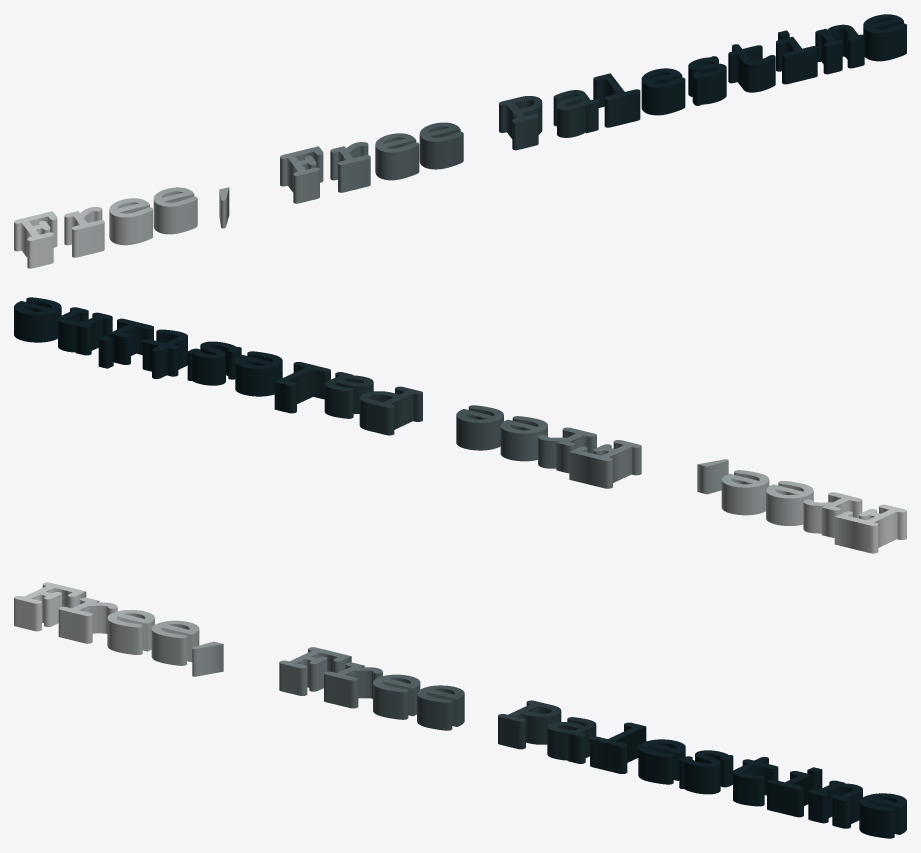
3 renders of one model, top to bottom at view 1: azimuth 30°, elevation 25°; view 2: azimuth 150°, elevation 25°; view 3: azimuth 330°, elevation 25°, orthographic.
Visible parts, largest first — view 1: 文字.011; view 2: 文字.011; view 3: 文字.011.
Boxes of the visible parts, x1,y1,x2,y2 form: 文字.011: [14, 14, 906, 268]; 文字.011: [14, 297, 906, 553]; 文字.011: [14, 582, 906, 838].
Bounding box in the file's own units: 8.65 × 0.26 × 0.575.
1 material, 1 textured.
